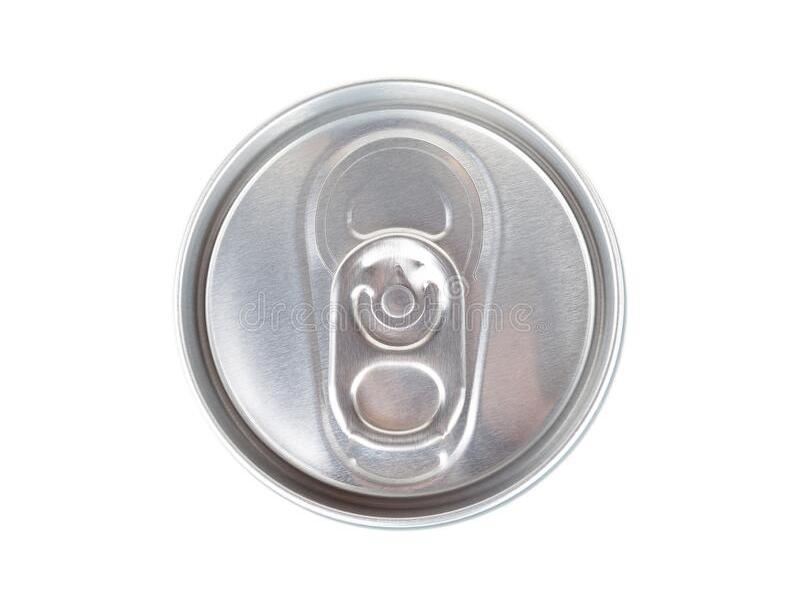can: (171, 75, 639, 532)
